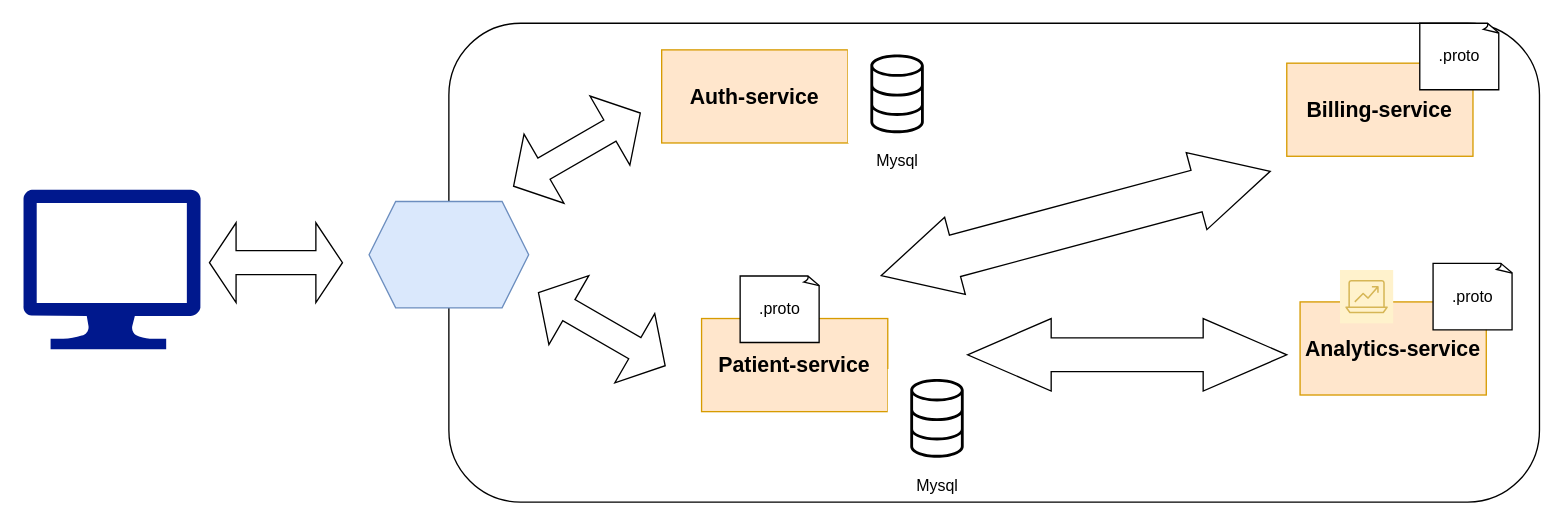
Some shapes in this 1563 by 525 pixel diagram are drawn without their labels. The centre of each missing label's shape, as x and y in pixels:
API - Gateway: [448,254]
Client: [111,268]
gRPC Calls: [1075,222]
Kafka Calls: [1126,354]
